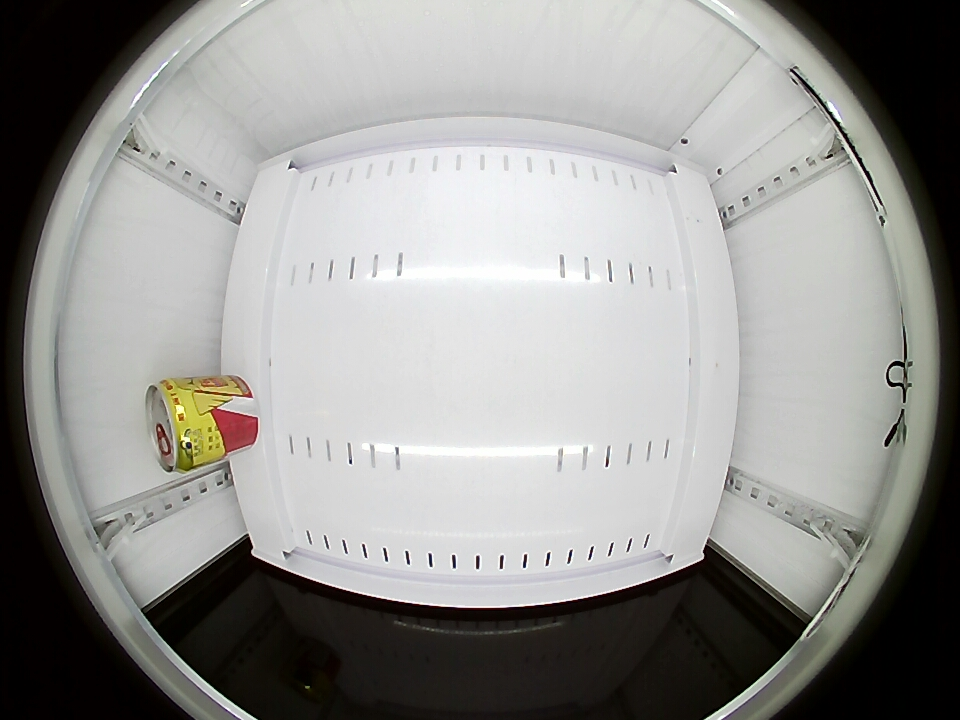dongpeng: (146, 378, 205, 473)
